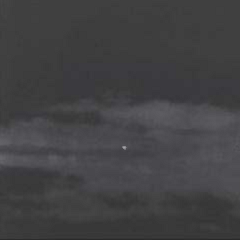Target: (121, 145, 128, 151)
